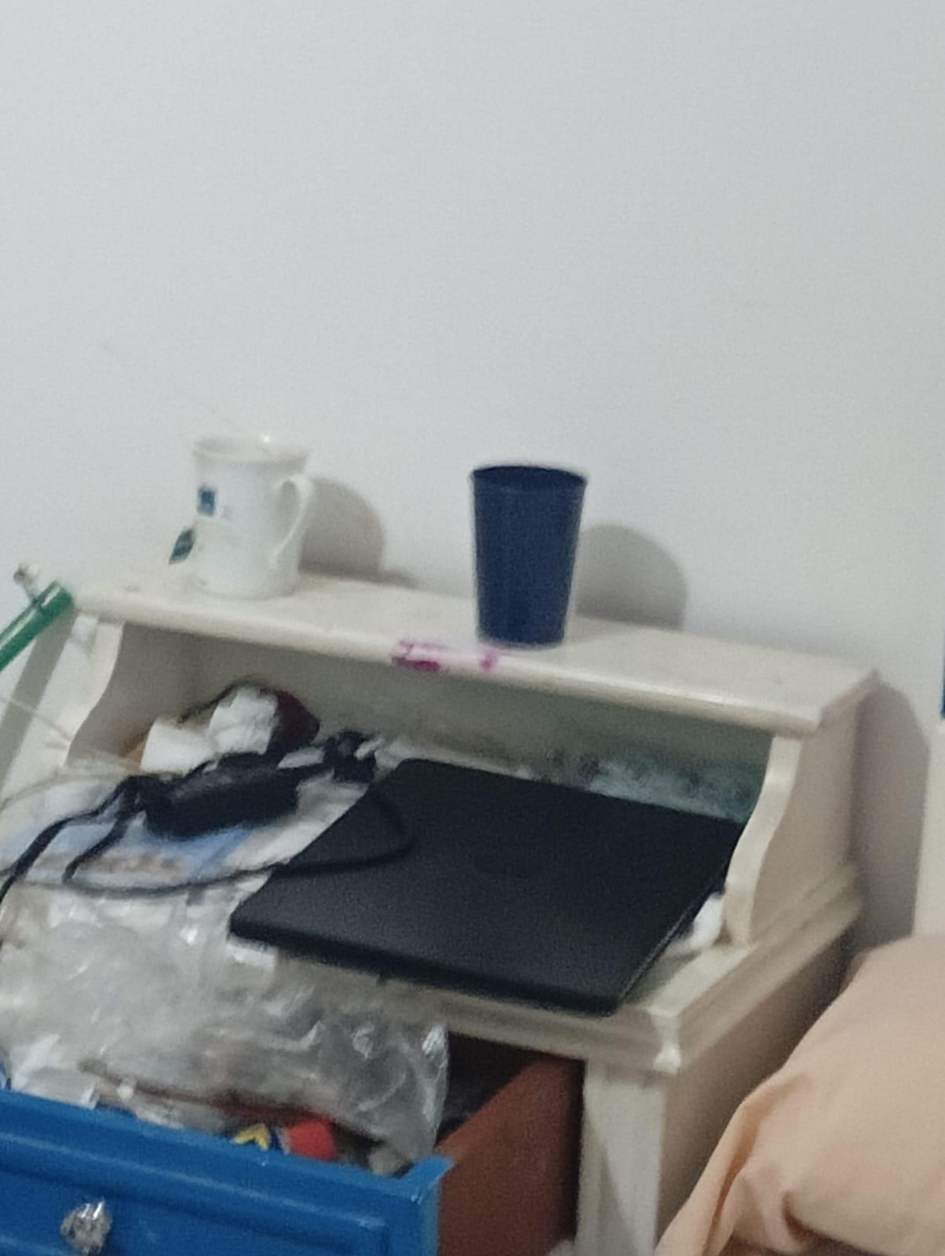cup: (471, 465, 586, 645), (189, 436, 314, 597)
